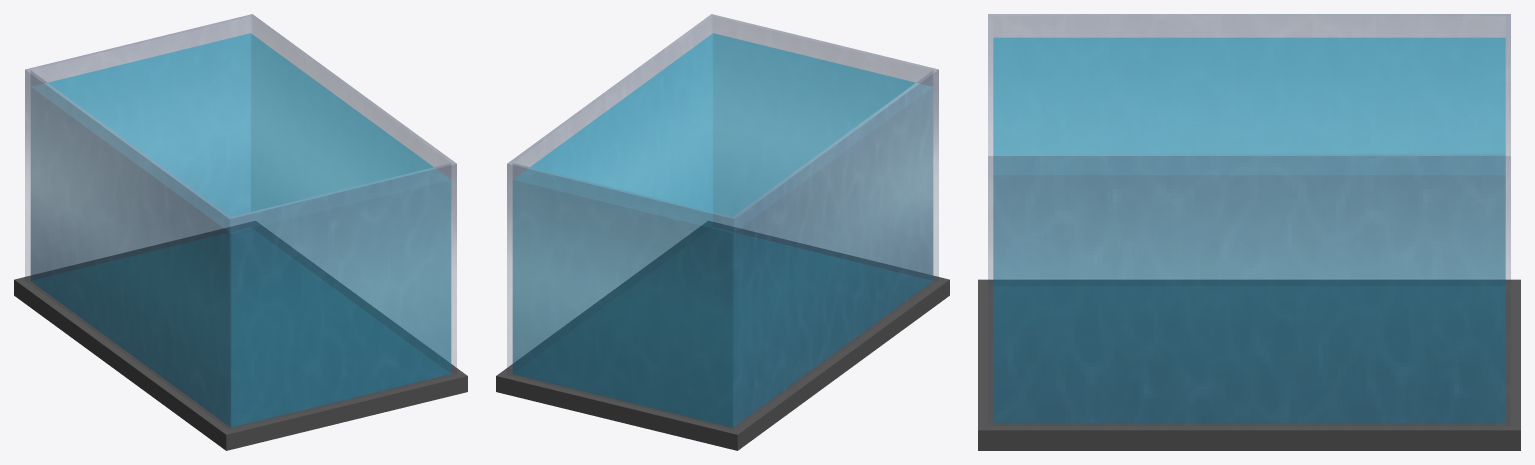
File: FishTank.fbx
3 views of the same model, side by side, from view 1: azimuth 30°, elevation 25°; view 2: azimuth 150°, elevation 25°; view 3: azimuth 270°, elevation 25° (orthographic). The views are drawn at different scales.
Visible parts, largest first — view 1: FishTank; view 2: FishTank; view 3: FishTank.
Part boxes in pixels (box(x1,y1,x2,y2)): FishTank: box(14, 14, 467, 450); FishTank: box(496, 14, 949, 450); FishTank: box(978, 14, 1520, 450).
Bounding box in the file's own units: 1.62 × 1.46 × 2.47.
Materials: 3 (1 with a texture image).
